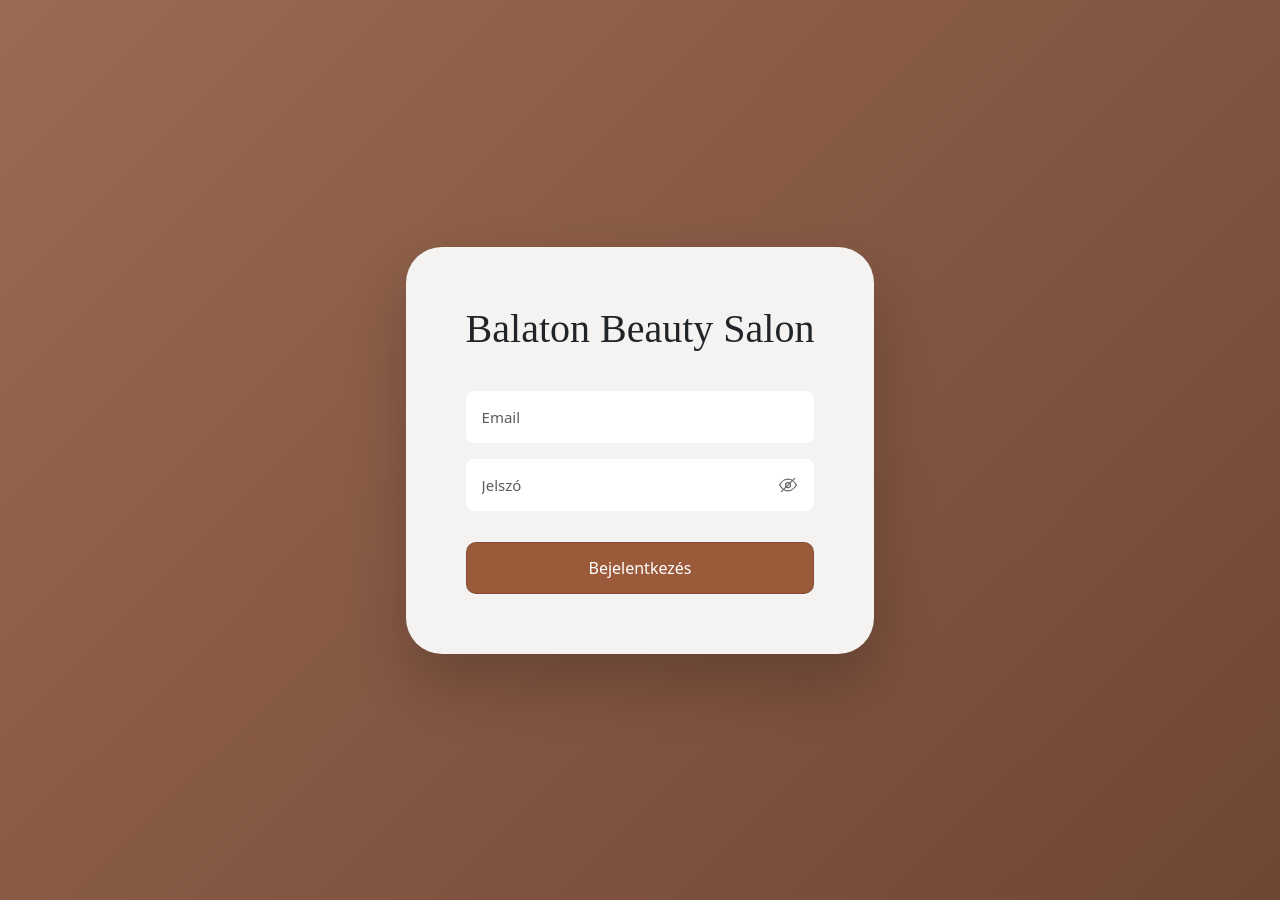
Scenario: AdminLogin › validáció működik (üres submit)
What coordinates should you click on to do the following:
click the button "Bejelentkezés"
I would click on:
 (640, 568)
Its box is [466,542,814,594].
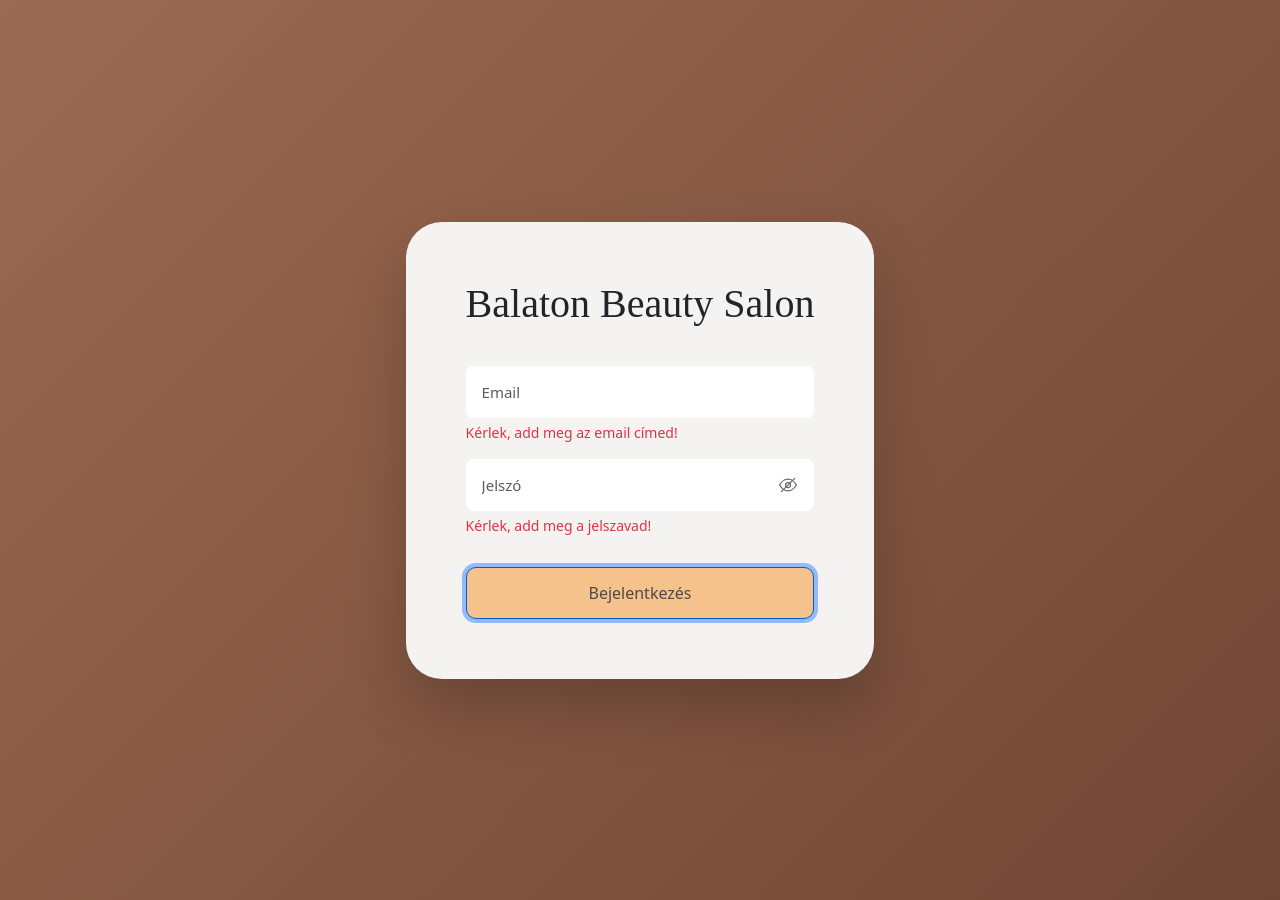
Result: the text "Kérlek, add meg az email címed!" is shown at [466,422,678,442]
